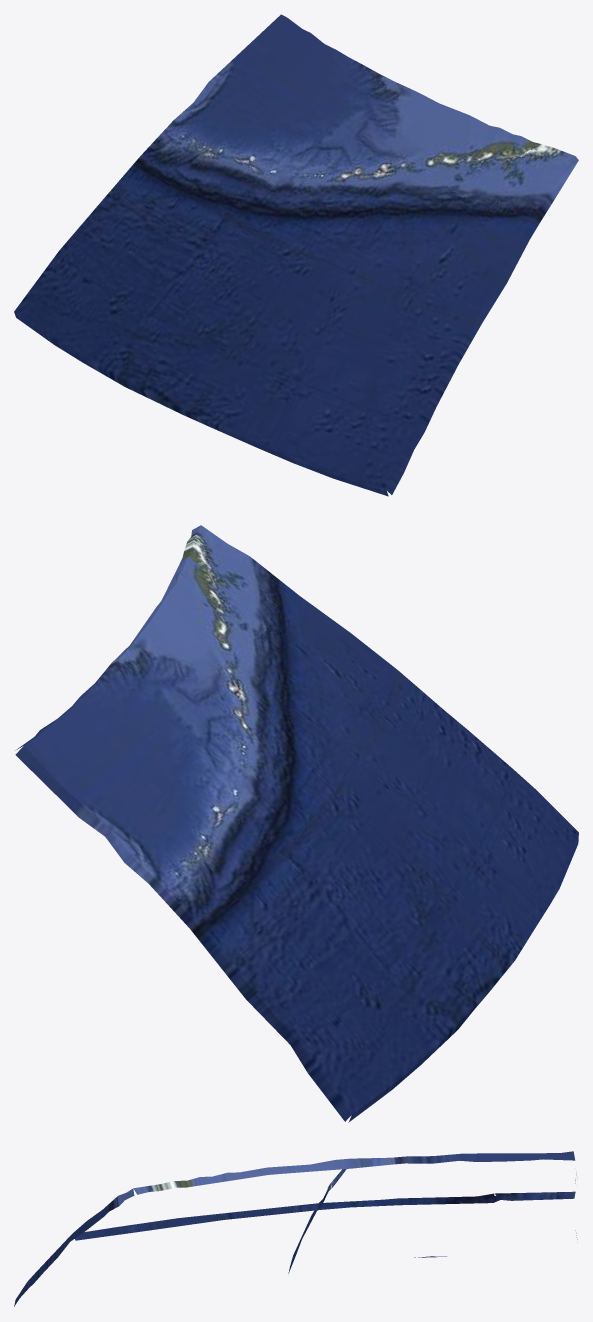
The picture shows the model from 3 angles, top to bottom: view 1: azimuth 30°, elevation 25°; view 2: azimuth 150°, elevation 25°; view 3: azimuth 270°, elevation 25°; orthographic projection. The views are drawn at different scales.
Bounding box in the file's own units: 1248278 × 833069 × 1749273.
1 material, 1 textured.
